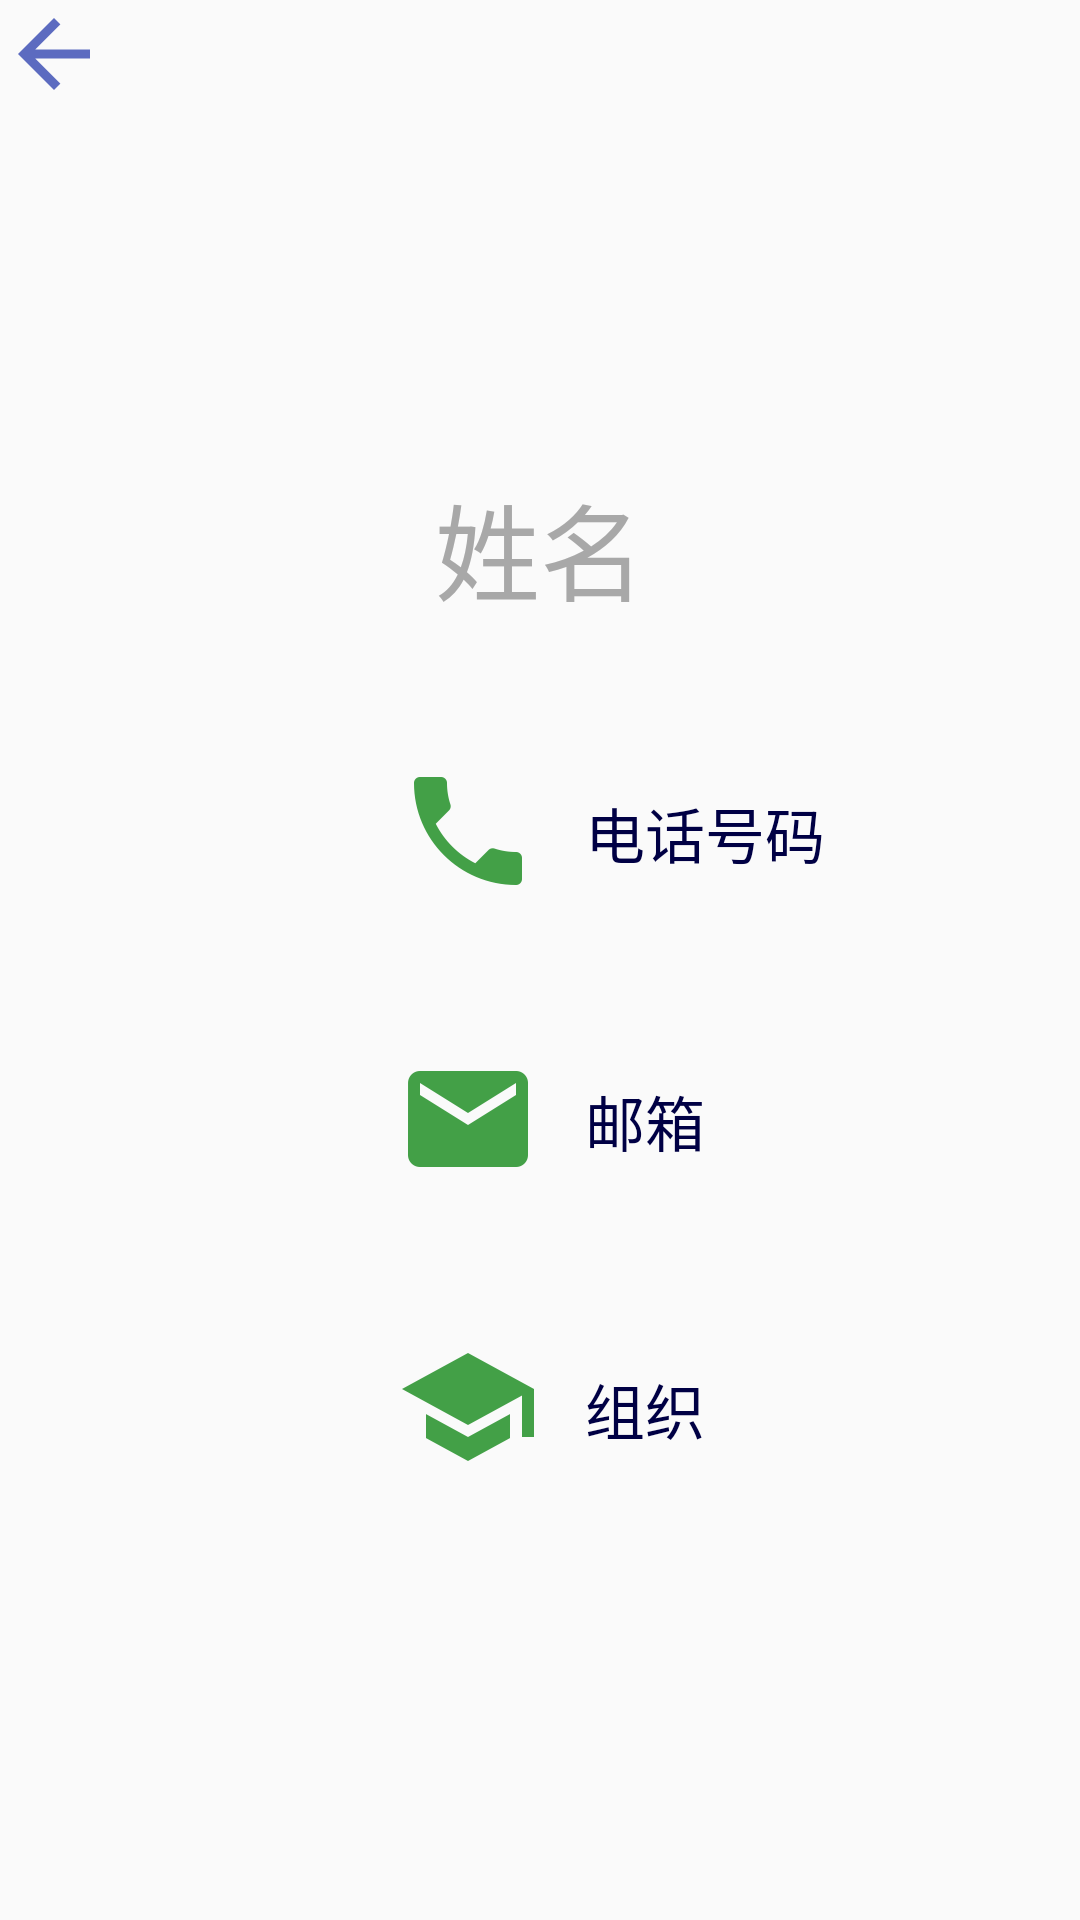

Icon bounding boxes for this 1080×1920 phone screenshot, format (x1, y1, x2, y2):
arrow back indigo: (18, 18, 90, 90)
email: (408, 1071, 528, 1167)
phone: (414, 777, 522, 885)
school: (402, 1353, 534, 1461)
